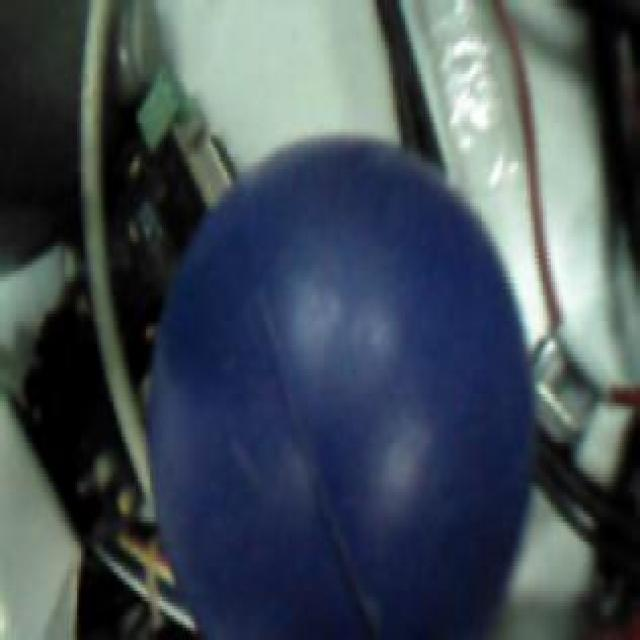BallPurple: (147, 138, 534, 640)
